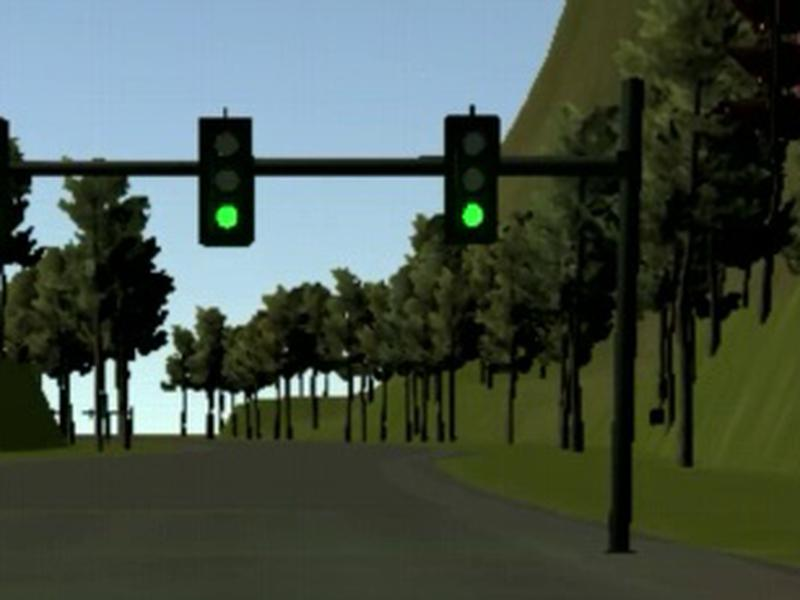Green: (197, 118, 253, 245), (445, 115, 496, 243)
